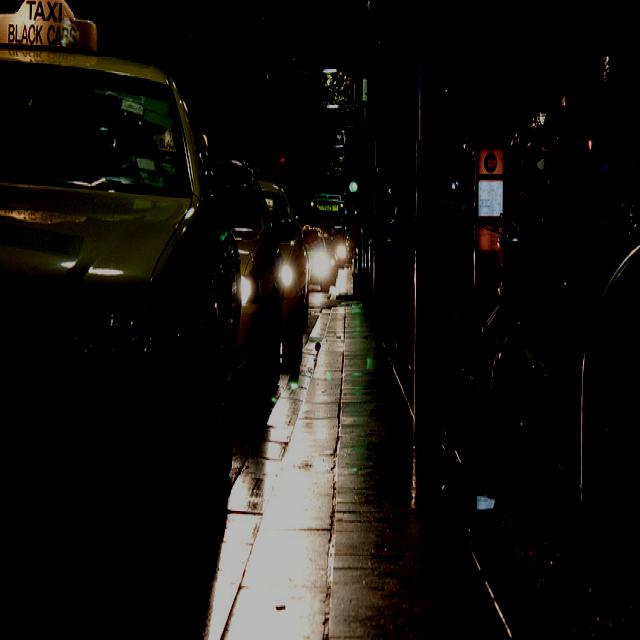Car: (14, 23, 359, 606)
Motorbike: (470, 149, 640, 492)
